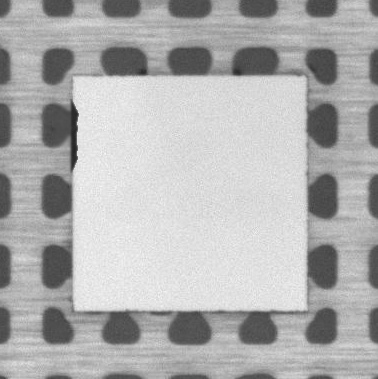DIE_BROKEN: (68, 99, 81, 172)
